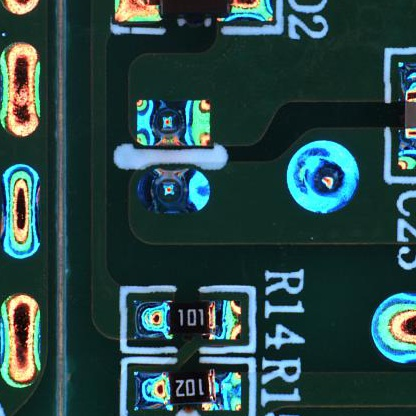spot: (271, 132, 367, 227), (127, 86, 220, 152), (129, 161, 219, 224)
